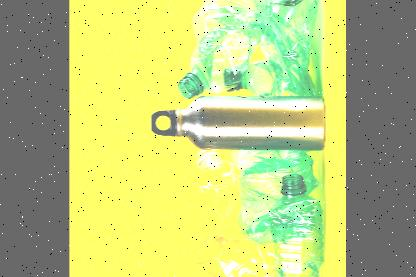Plastic Bottle: (168, 0, 299, 96), (259, 170, 324, 277)
